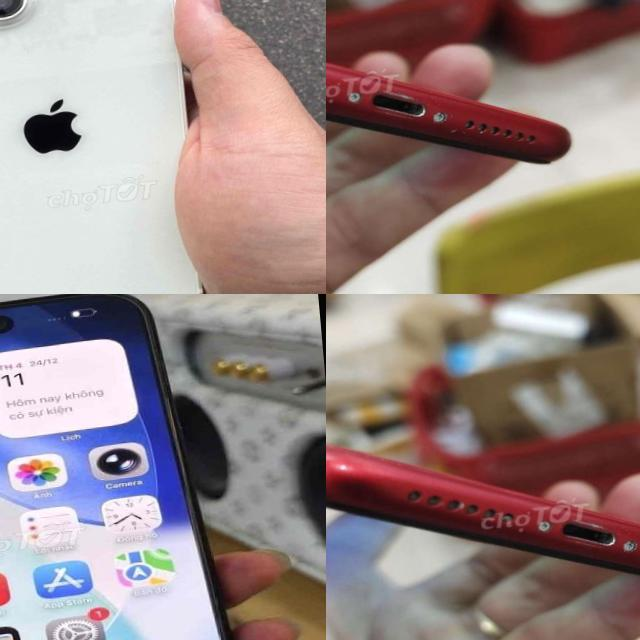scratch: (495, 486, 554, 542), (416, 88, 460, 140), (326, 57, 364, 113), (606, 516, 640, 568)
